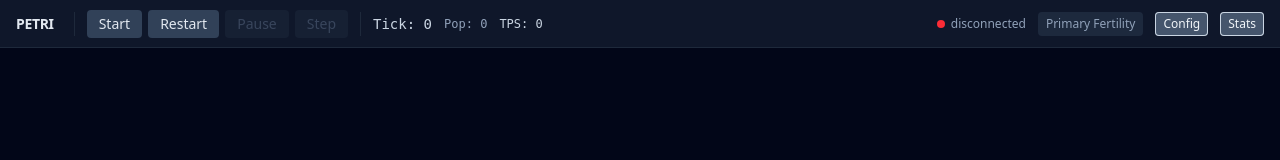
ControlBar › blocks lifecycle commands until the entire restart transaction completes
Click the button with test id "control-restart" at (184, 24), box 148,10 -> 219,38
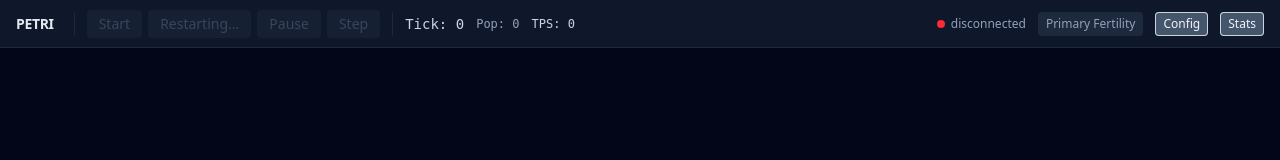
Check: the button with test id "control-start" is disabled
Click the button with test id "control-start" at (114, 24), box 87,10 -> 142,38
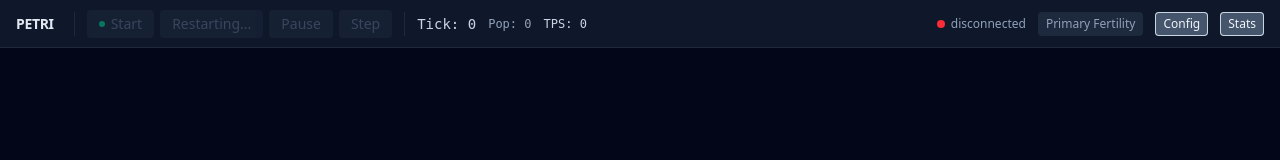
Click the button with test id "control-pause" at (301, 24), box 269,10 -> 333,38
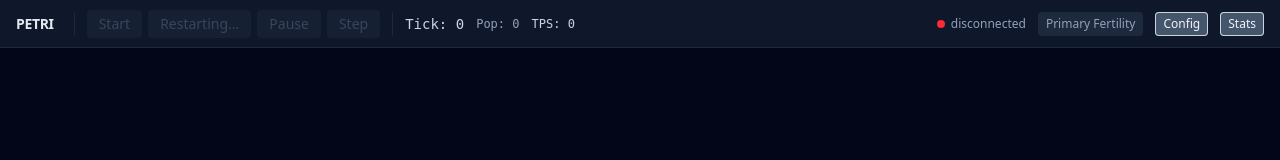
Click the button with test id "control-step" at (354, 24), box 327,10 -> 380,38
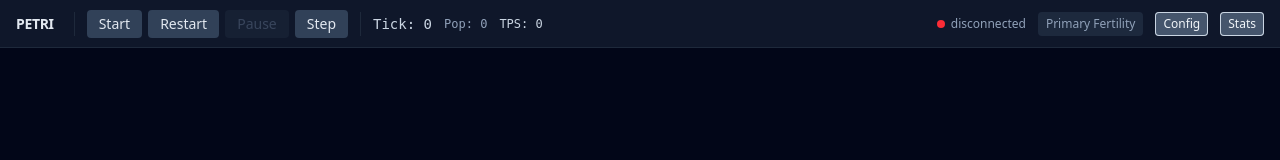
Check: the button with test id "control-step" is enabled, box 295,10 -> 348,38
